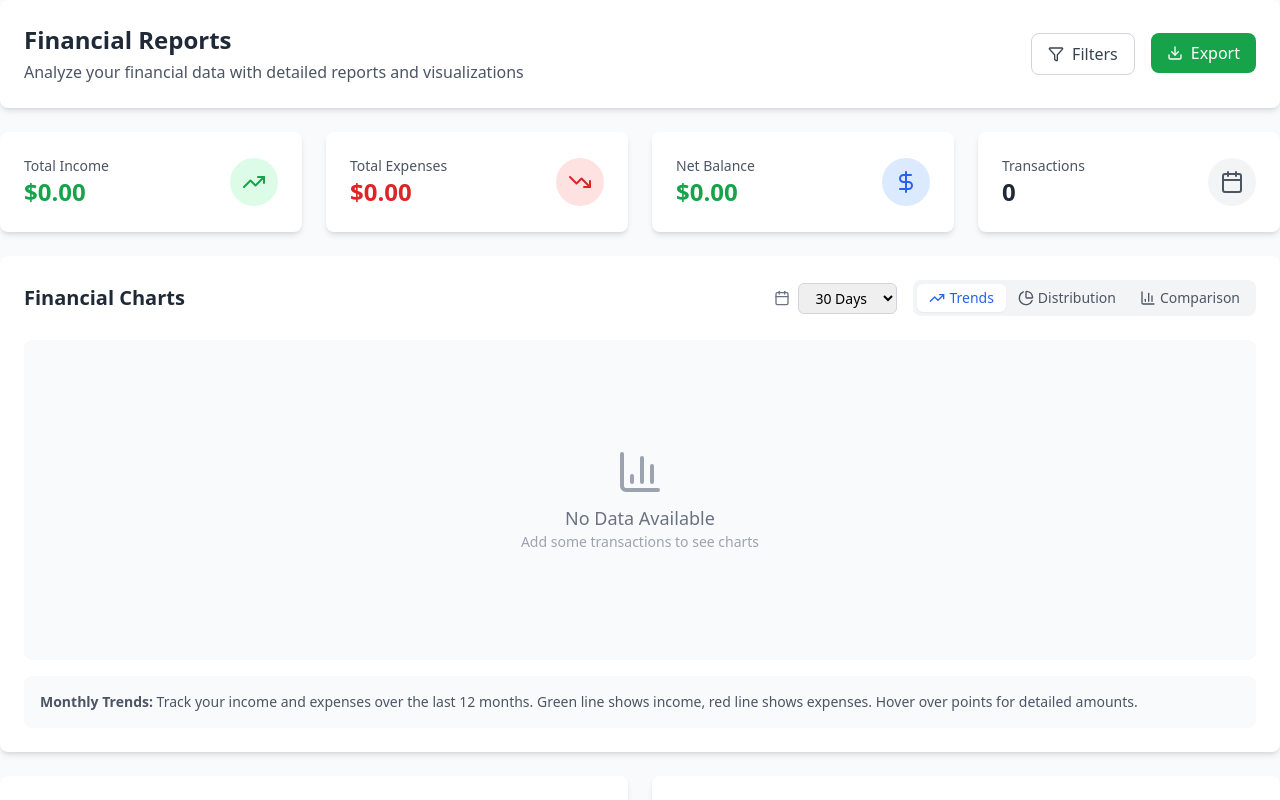
ReportsDashboard › should toggle filters panel when filter button is clicked
This screenshot has width=1280, height=800.
Expected: the text "Time Period" is not shown
Note: Click to show filters
Click the button "Filters" at (1083, 54), box x1=1031 y1=33 x2=1135 y2=75
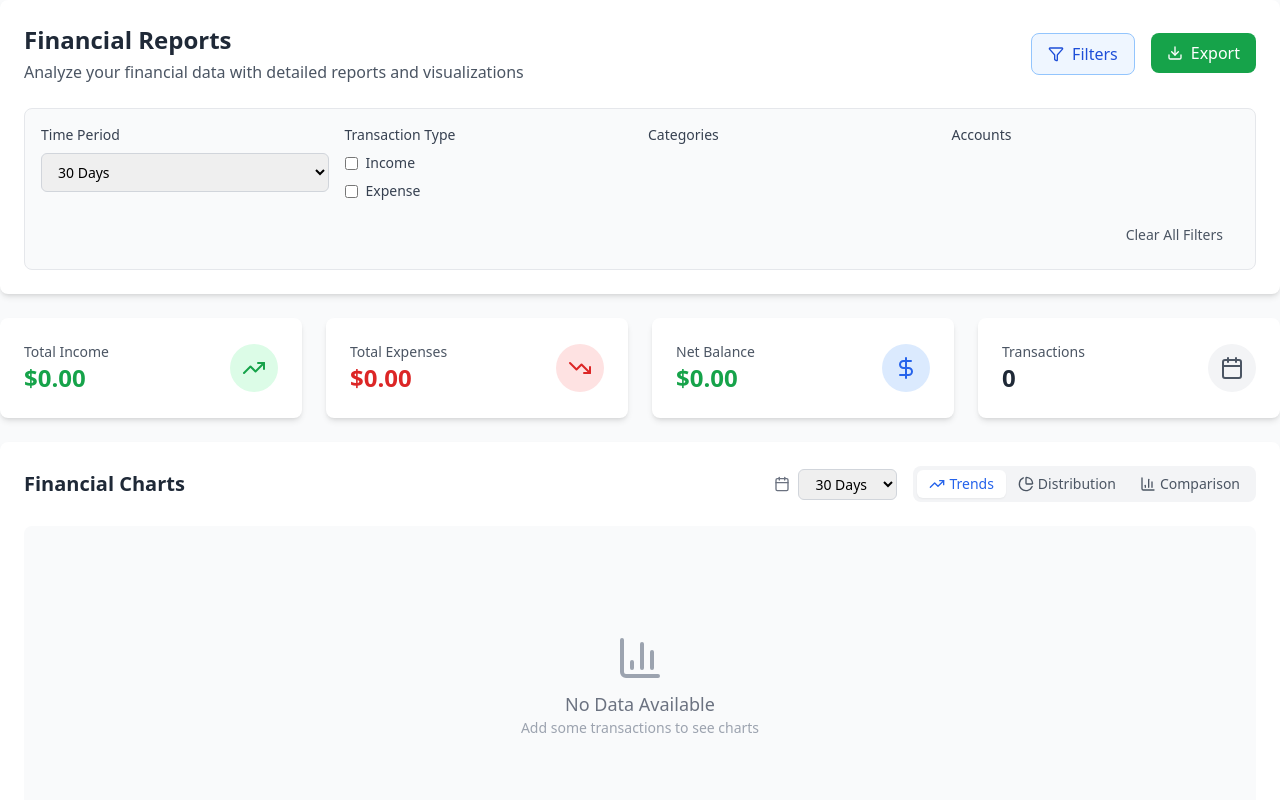
Expected: the text "Time Period" is shown, x1=41 y1=125 x2=120 y2=144
Expected: the text "Transaction Type" is shown, x1=344 y1=125 x2=456 y2=144
Expected: the text "Categories" is shown, x1=648 y1=125 x2=719 y2=144
Note: Click to hide filters
Click the button "Filters" at (1083, 54), box x1=1031 y1=33 x2=1135 y2=75
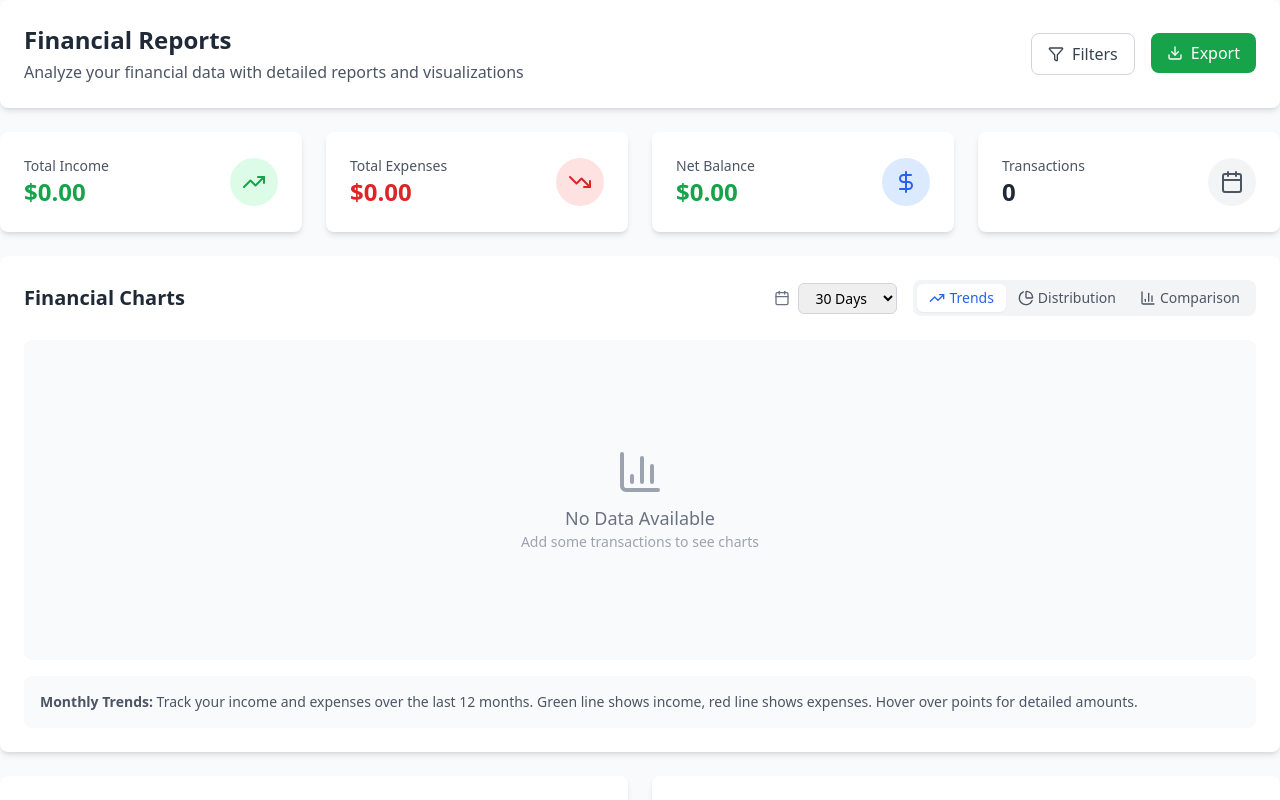
Expected: the text "Time Period" is gone
